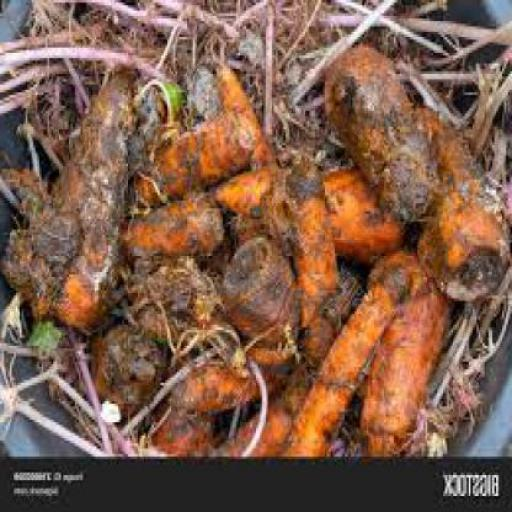biodegradable: (4, 58, 140, 327), (280, 256, 418, 454), (362, 248, 461, 454), (326, 42, 438, 219), (207, 301, 335, 449), (217, 161, 417, 251), (418, 104, 510, 296), (133, 113, 258, 214), (120, 253, 225, 351), (299, 158, 348, 361), (174, 346, 305, 417), (88, 318, 174, 420), (221, 63, 293, 179), (144, 370, 240, 453), (228, 238, 301, 344), (122, 190, 228, 256), (2, 163, 50, 227), (218, 166, 284, 208), (2, 290, 35, 340), (156, 74, 185, 122), (31, 312, 67, 348)
